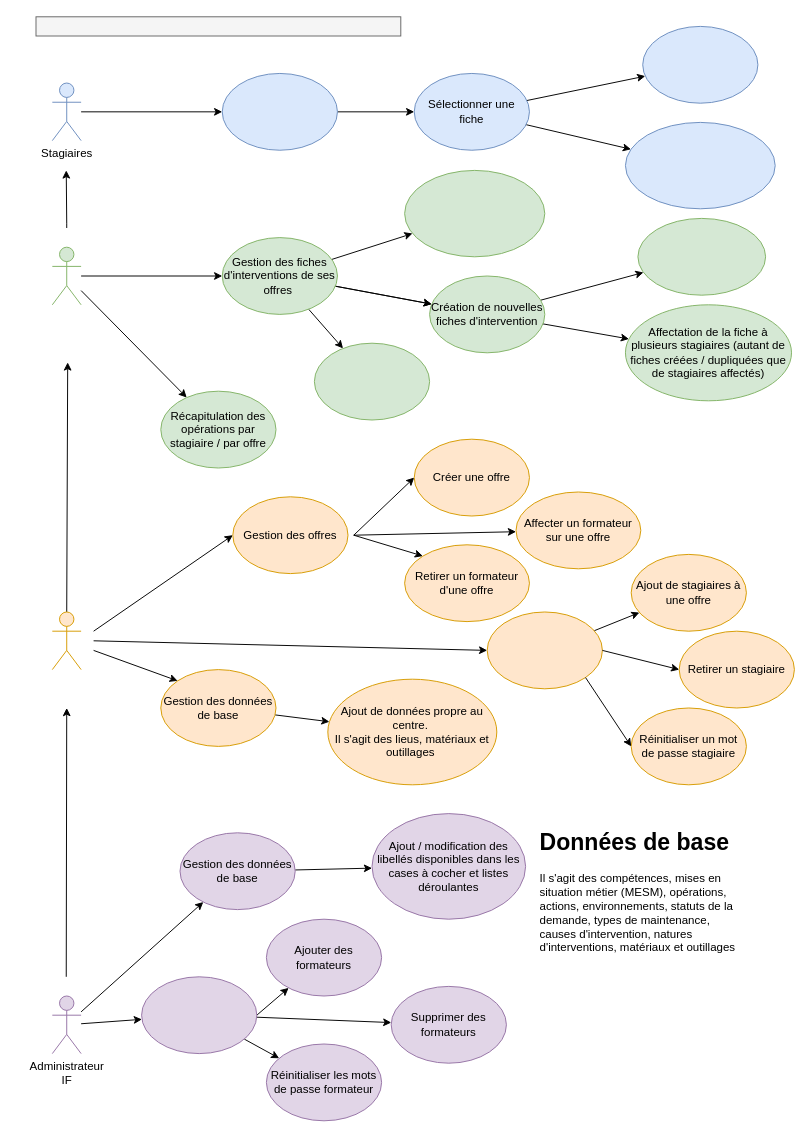
Some shapes in this 811 by 1138 pixel diagram are drawn without their labels. The centre of each missing label's shape, as x and y in pixels:
Affectation de la fiche à un stagiaire: the point at 701,256
Ajouter une activité (si le travail n'est pas terminé en une action): the point at 699,165
Formateur Co-formateur / Itinérent / Remplacant: the point at 66,275
Formateur Référent 1 par centre: the point at 66,640
Gestion des formateurs: the point at 199,1015
Gestion des stagiaires: the point at 544,650
Modifier ses donnéesde la fiche: the point at 700,64
Toutes ces actions ne sont disponibles qu'après une connexion: the point at 218,26
Valider une fiche d'intervention et y ajouter une appréciation: the point at 371,381
Visualisation des fiches par offre / par stagiaire / par état d'avancement: the point at 474,213
Voir les fiches d'interventions qui lui sont assignées: the point at 279,111
